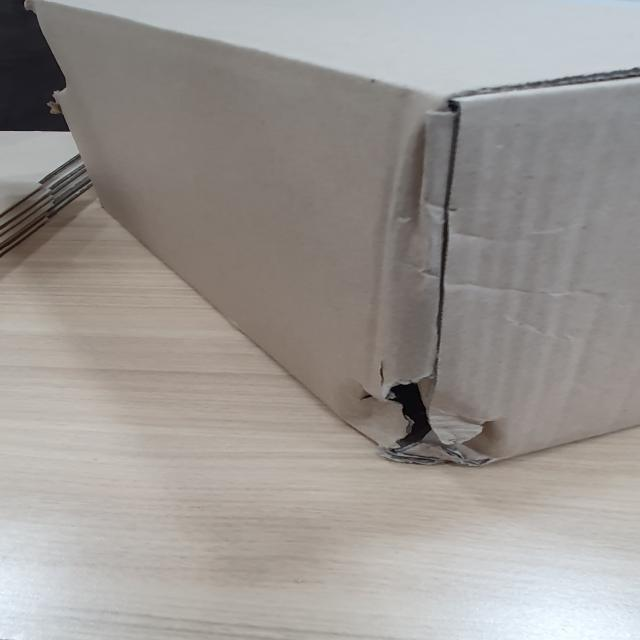hole: (347, 367, 497, 467)
